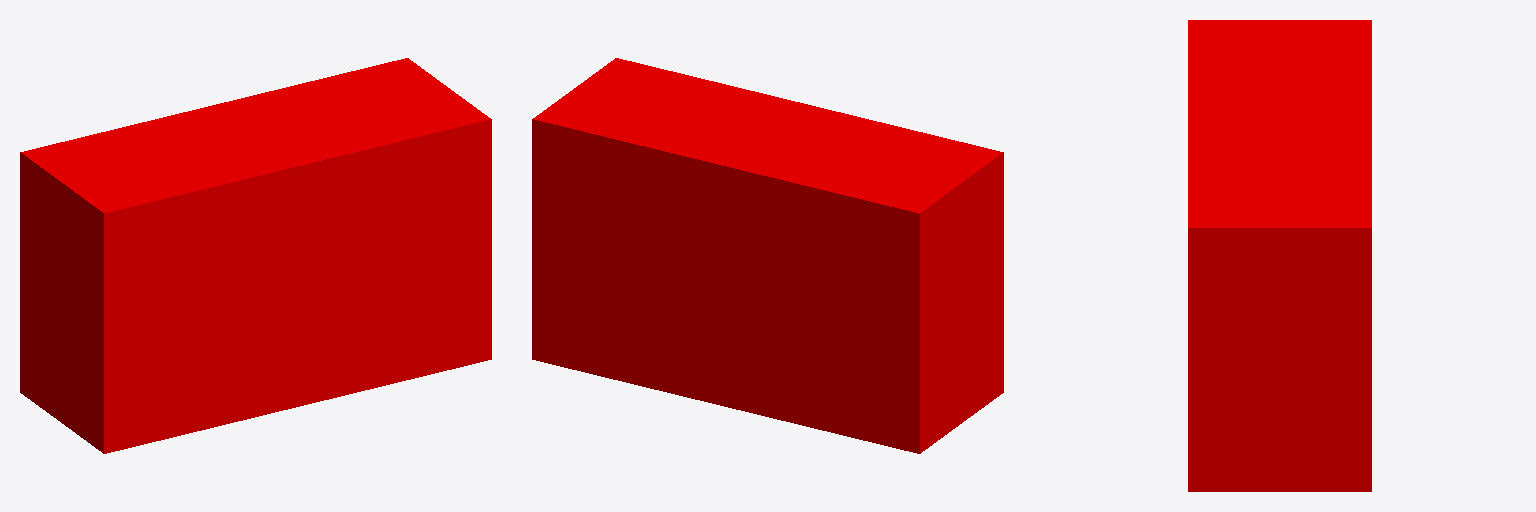
URDF robot description (box.urdf):
<?xml version="0.0" ?>
<robot name="box.urdf">
  <link name="baseLink">
    <contact>
      <lateral_friction value="0.5"/>
      <rolling_friction value="0.0"/>
      <contact_cfm value="0.0"/>
      <contact_erp value="1.0"/>
    </contact>
    <inertial>
      <origin rpy="0 0 0" xyz="0 0 0"/>
       <mass value=".01"/>
       <inertia ixx="1" ixy="0" ixz="0" iyy="1" iyz="0" izz="1"/>
    </inertial>
    <visual>
      <origin rpy="0 0 0" xyz="0 0 0"/>
      <geometry>
				<mesh filename="box.obj" scale="0.16 0.06 0.095"/>
      </geometry>
       <material name="white">
        <color rgba="1 0 0 1"/>
      </material>
    </visual>
    <collision>
      <origin rpy="0 0 0" xyz="0 0 0"/>
      <geometry>
	 	<box size="0.16 0.06 0.095"/>
      </geometry>
    </collision>
  </link>
</robot>

--- What the picture shows (computed from the rendered views, not written in the file) ---
3 views of the same robot in one strip: view 1: azimuth 30°, elevation 25°; view 2: azimuth 150°, elevation 25°; view 3: azimuth 270°, elevation 25° (orthographic).
Model box.urdf with 1 links and 0 joints (none), rooted at baseLink, posed all joints at 0.
Links seen in each view (by area): view 1: baseLink; view 2: baseLink; view 3: baseLink.
Boxes of the visible links, x1,y1,x2,y2 form: baseLink: [20, 58, 491, 453]; baseLink: [532, 58, 1003, 453]; baseLink: [1188, 20, 1371, 491].
Size in the robot's own frame: 0.16 by 0.06 by 0.095 metres.
Meshes: 1 distinct files referenced, 1 mesh visuals loaded (1 OBJ).